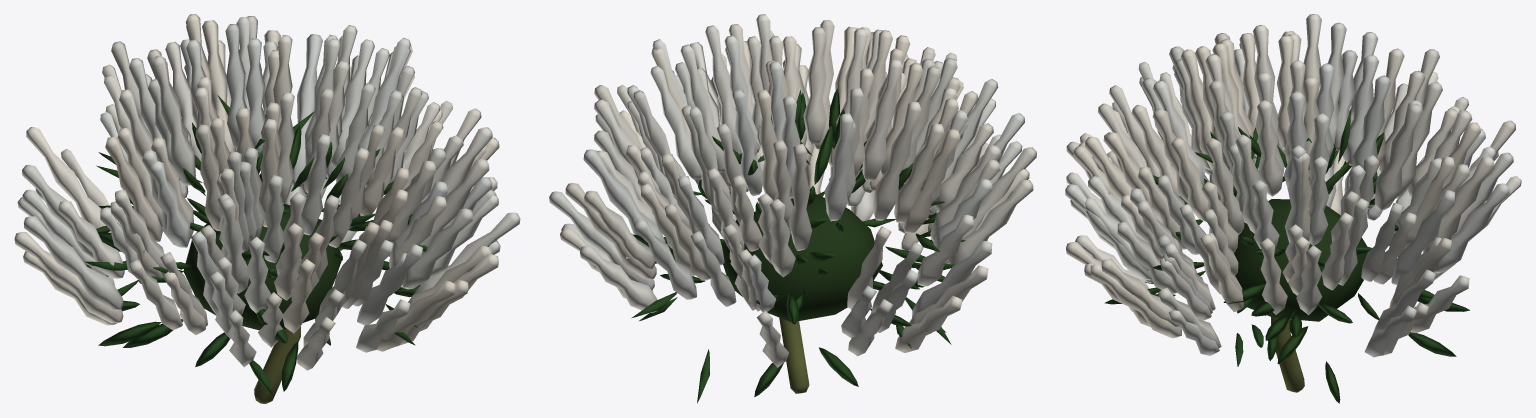
The model's file is potfill_heather_white.glb.
The picture shows the model from 3 angles, left to right: view 1: azimuth 30°, elevation 25°; view 2: azimuth 150°, elevation 25°; view 3: azimuth 270°, elevation 25°; orthographic projection. The views are drawn at different scales.
Visible parts, largest first — view 1: Sammel Pflanze, Sammel Blatt, Sammel Putz; view 2: Sammel Pflanze, Sammel Blatt, Sammel Putz; view 3: Sammel Pflanze, Sammel Blatt, Sammel Putz.
Boxes of the visible parts, x1=… form: Sammel Pflanze: x1=14, y1=14, x2=520, y2=393; Sammel Blatt: x1=183, y1=197, x2=342, y2=330; Sammel Putz: x1=254, y1=326, x2=300, y2=403; Sammel Pflanze: x1=549, y1=14, x2=1036, y2=403; Sammel Blatt: x1=722, y1=194, x2=882, y2=321; Sammel Putz: x1=779, y1=317, x2=809, y2=393; Sammel Pflanze: x1=1065, y1=14, x2=1521, y2=403; Sammel Blatt: x1=1234, y1=199, x2=1368, y2=321; Sammel Putz: x1=1271, y1=317, x2=1304, y2=392.
Bounding box in the file's own units: 0.304 × 0.2488 × 0.3002.
